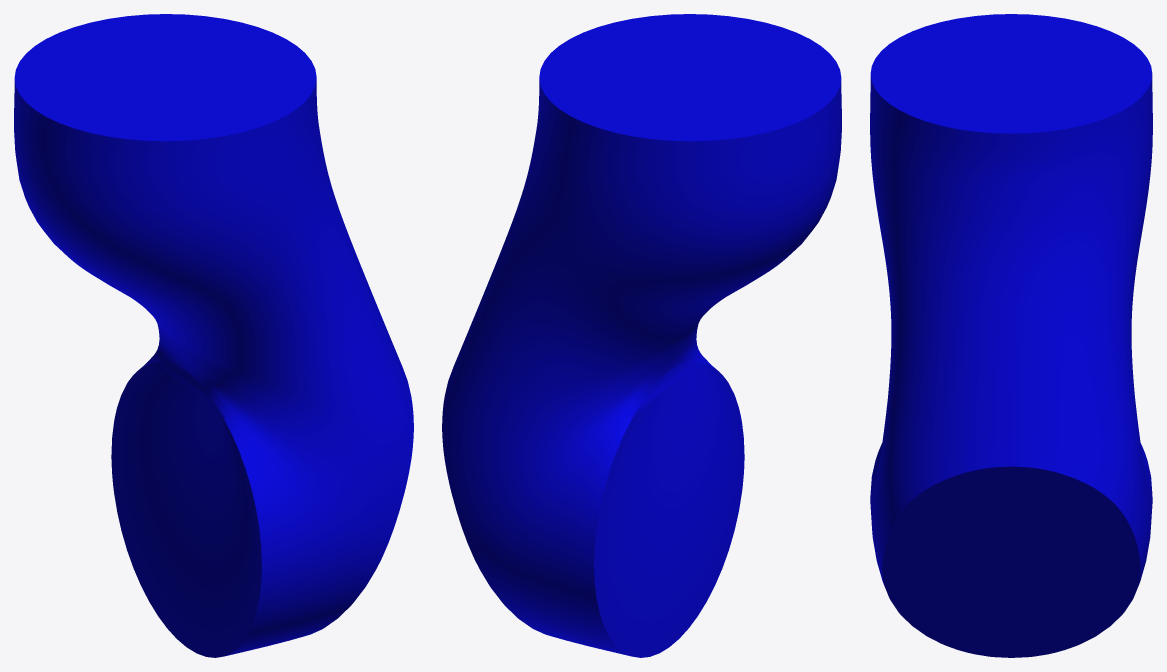
3 renders of one model, left to right at view 1: azimuth 30°, elevation 25°; view 2: azimuth 150°, elevation 25°; view 3: azimuth 270°, elevation 25°, orthographic. The views are drawn at different scales.
Parts seen in each view (by area): view 1: link4; view 2: link4; view 3: link4.
Boxes of the visible parts, <box> form: link4: <box>14,14,413,657</box>; link4: <box>442,14,841,657</box>; link4: <box>870,14,1152,657</box>.
Bounding box in the file's own units: 0.1581 × 0.119 × 0.2502.
